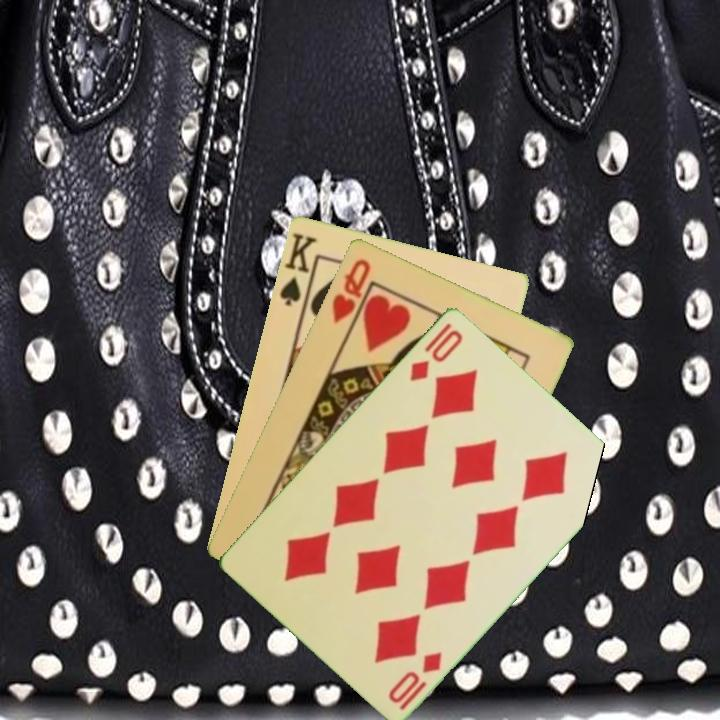10d: (384, 647, 445, 713), (406, 318, 466, 384)
Ks: (275, 228, 319, 309)
Qh: (328, 255, 374, 335)
